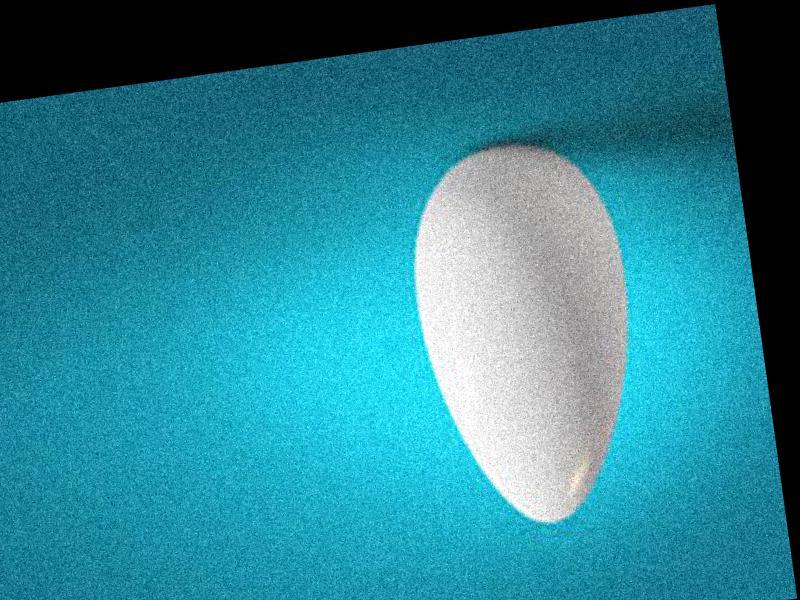Eggs: (396, 130, 658, 534)
